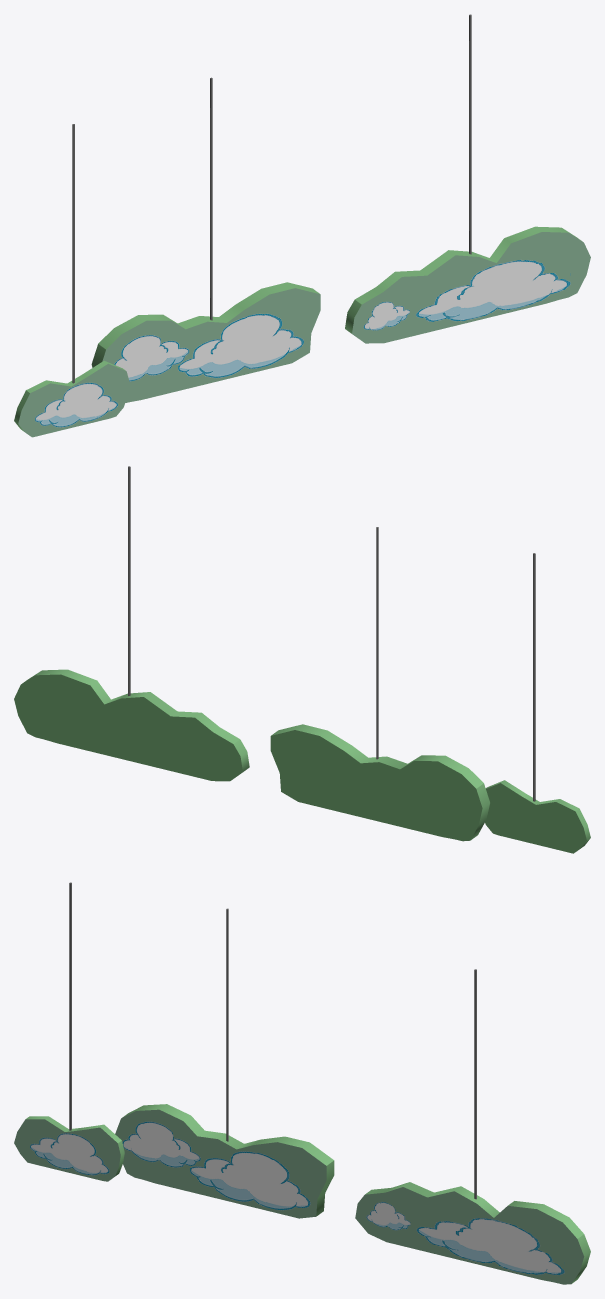
The model's file is Nubes.fbx.
3 renders of one model, top to bottom at view 1: azimuth 30°, elevation 25°; view 2: azimuth 150°, elevation 25°; view 3: azimuth 330°, elevation 25°, orthographic. The views are drawn at different scales.
Parts seen in each view (by area): view 1: Object050, Object053, Object054; view 2: Object053, Object050, Object054; view 3: Object053, Object050, Object054.
Part boxes in pixels (bbox=[...]): Object050: bbox=[345, 14, 590, 343]; Object053: bbox=[91, 77, 320, 402]; Object054: bbox=[14, 124, 129, 437]; Object053: bbox=[270, 527, 489, 841]; Object050: bbox=[14, 466, 249, 781]; Object054: bbox=[485, 553, 590, 853]; Object053: bbox=[115, 908, 334, 1218]; Object050: bbox=[355, 969, 590, 1284]; Object054: bbox=[14, 882, 124, 1181].
Bounding box in the file's own units: 245 × 122 × 14.43.
Materials: 3 (1 with a texture image).
